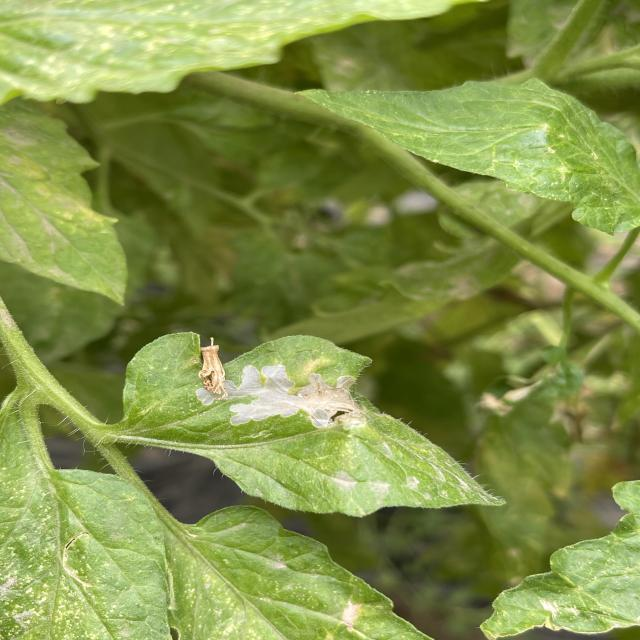Tuta absoluta: (224, 363, 361, 429)
